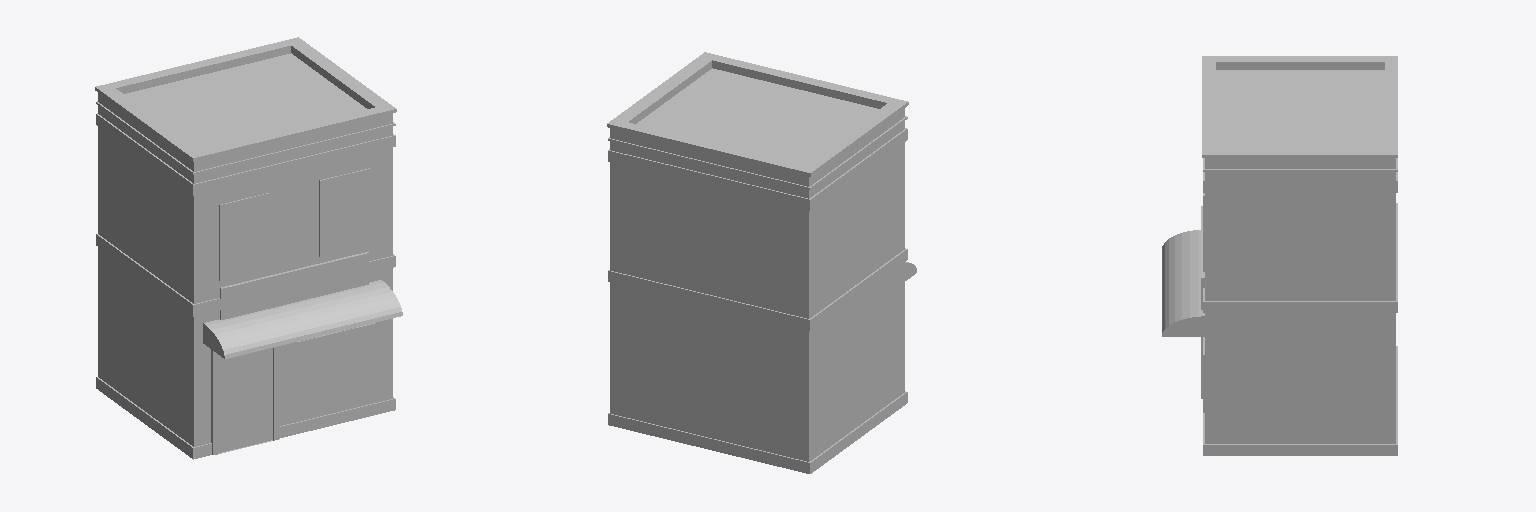
Rendered from bar.obj.
3 renders of one model, left to right at view 1: azimuth 30°, elevation 25°; view 2: azimuth 150°, elevation 25°; view 3: azimuth 270°, elevation 25°, orthographic.
Parts seen in each view (by area): view 1: Building_Bar; view 2: Building_Bar; view 3: Building_Bar.
Part boxes in pixels (bbox=[...]): Building_Bar: bbox=[95, 37, 402, 459]; Building_Bar: bbox=[607, 52, 916, 473]; Building_Bar: bbox=[1162, 56, 1397, 455].
Bounding box in the file's own units: 290 × 410 × 292.